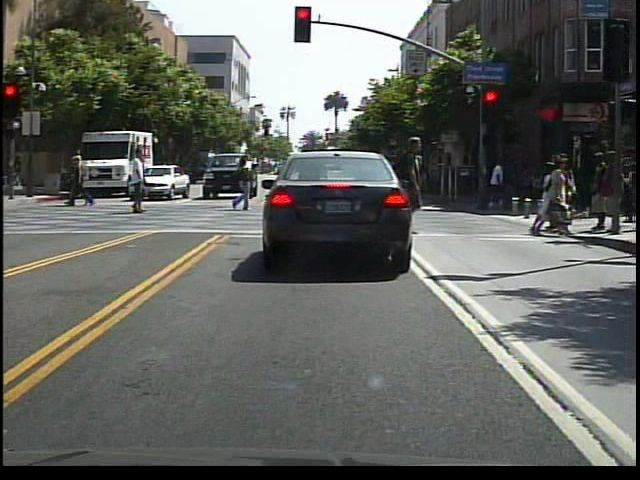person: (386, 116, 433, 253), (528, 155, 578, 245), (122, 151, 157, 224), (550, 153, 575, 225), (227, 156, 252, 213), (69, 153, 92, 213), (490, 156, 508, 219)
